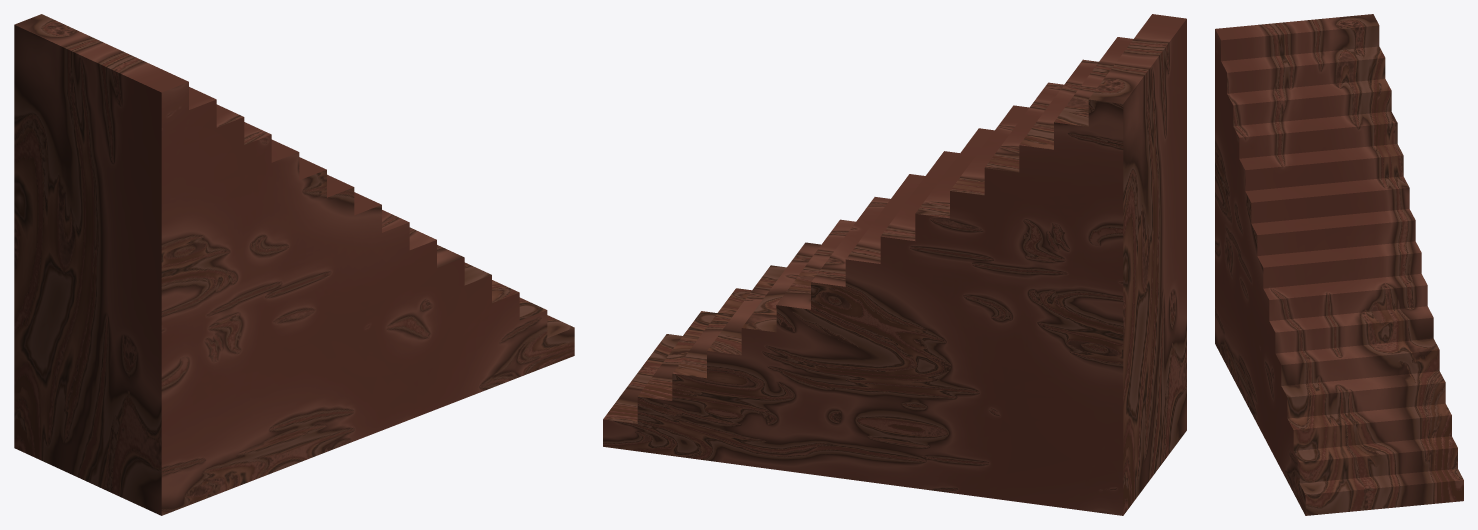
The model's file is Stairs.fbx.
3 renders of one model, left to right at view 1: azimuth 30°, elevation 25°; view 2: azimuth 150°, elevation 25°; view 3: azimuth 270°, elevation 25°, orthographic. The views are drawn at different scales.
Visible parts, largest first — view 1: Stairs.003; view 2: Stairs.003; view 3: Stairs.003.
Part boxes in pixels (left/top/right/bottom): Stairs.003: left=14, top=14, right=574, bottom=515; Stairs.003: left=603, top=14, right=1186, bottom=515; Stairs.003: left=1215, top=14, right=1463, bottom=515.
Bounding box in the file's own units: 1909 × 1500 × 1074.
